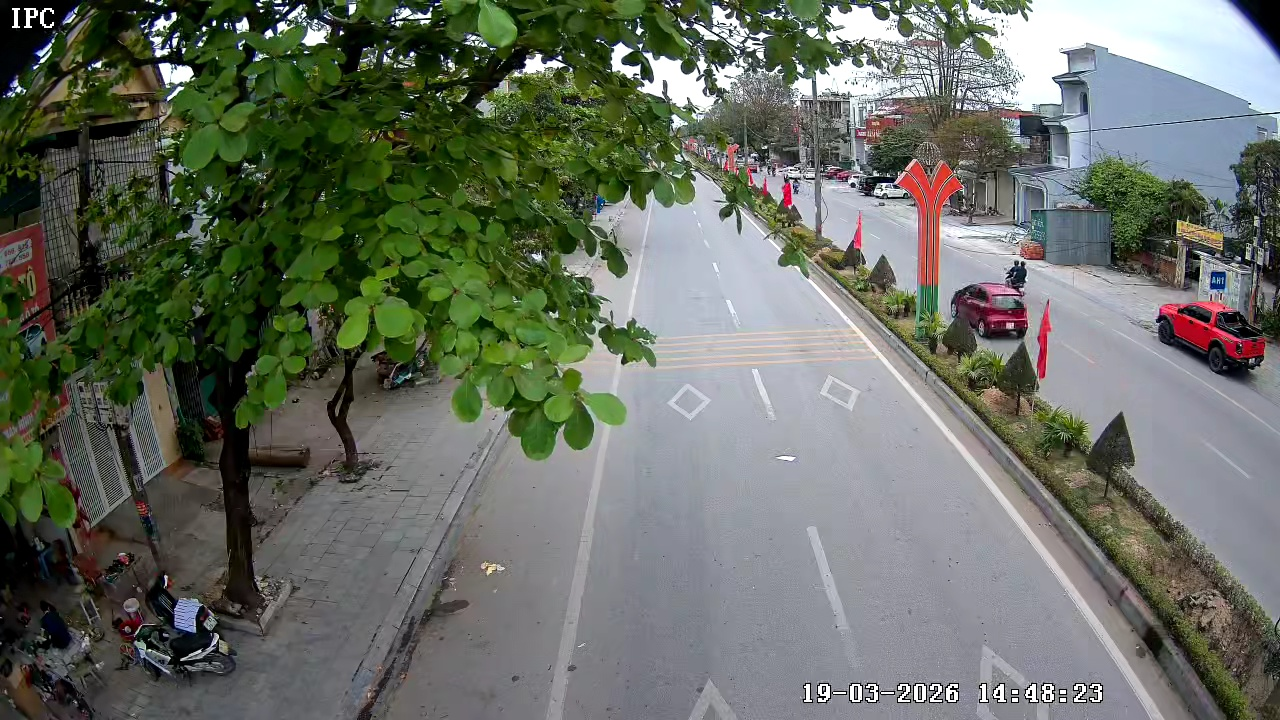car: (950, 279, 1029, 339)
motorbike: (1004, 255, 1029, 292)
truck: (1152, 299, 1267, 377)
